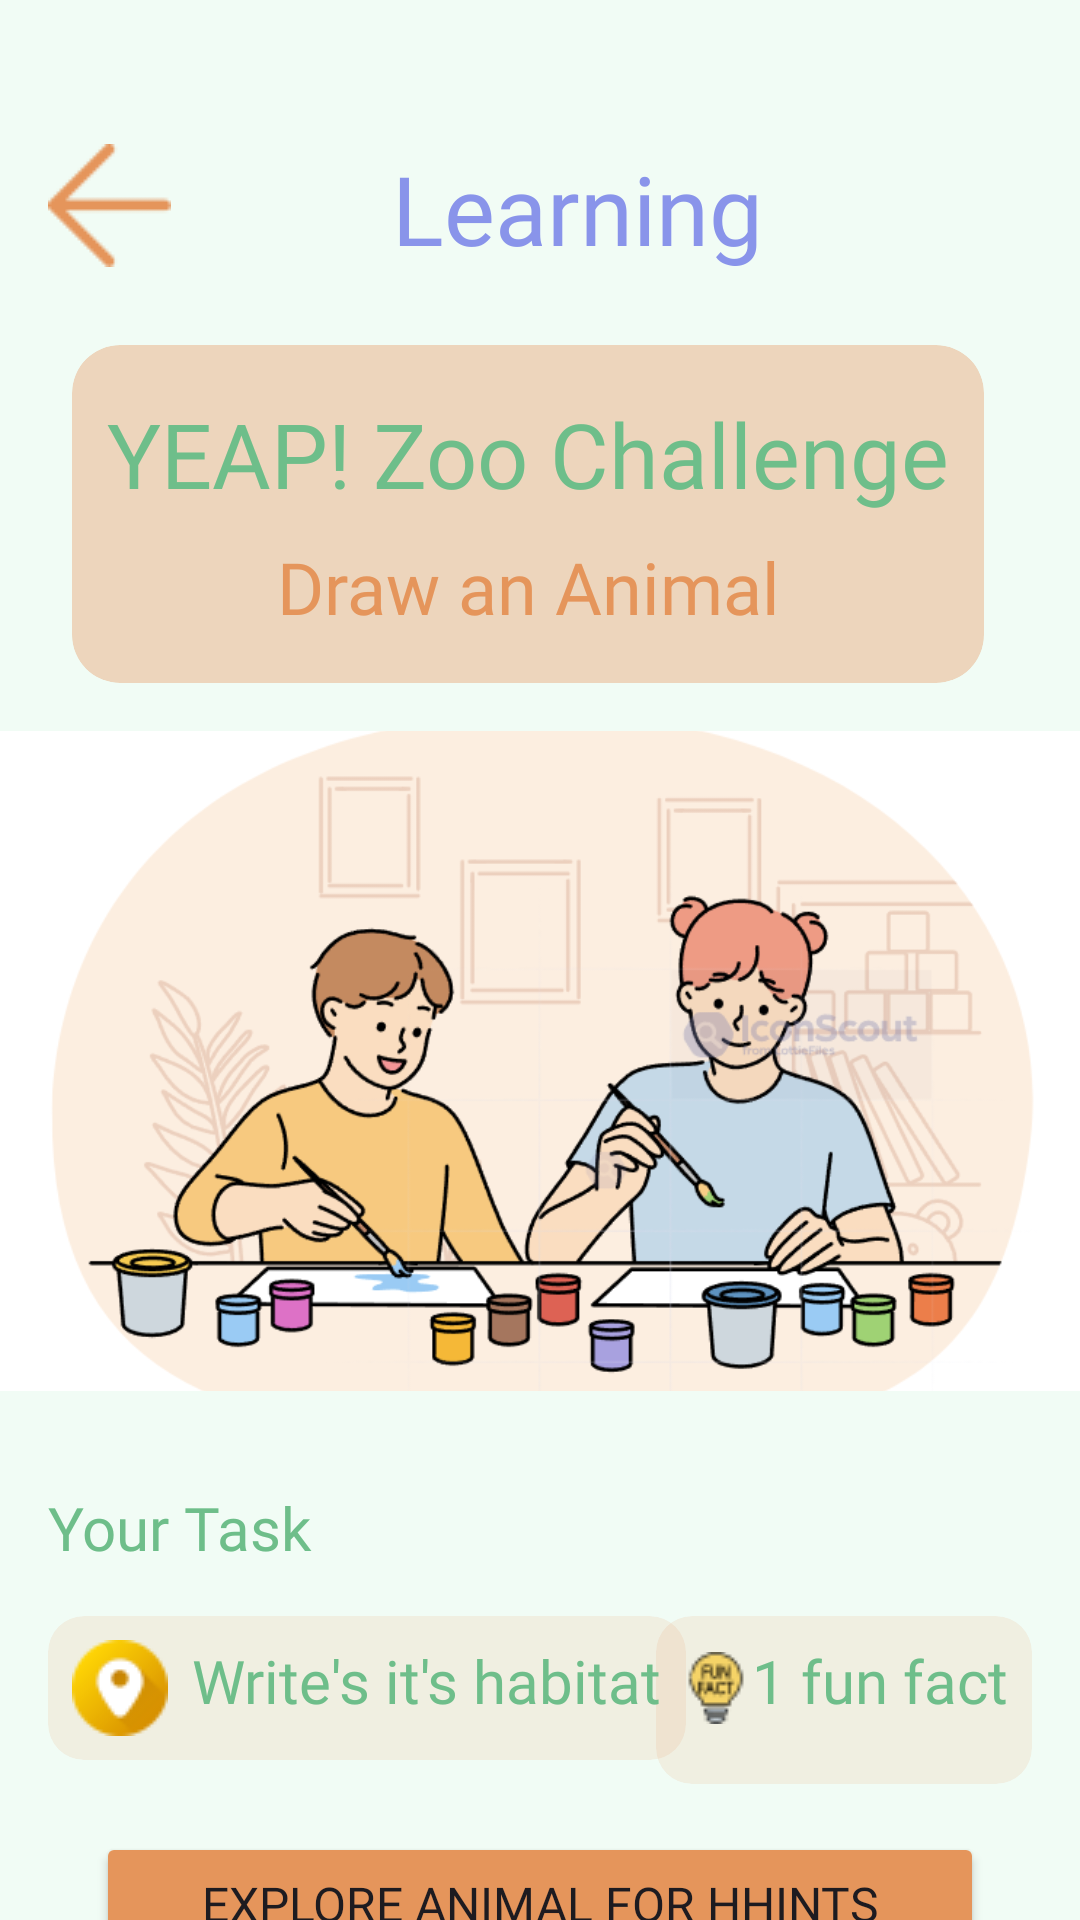

Where to tap for icons on this 1080*1920 app screen, as point (x, y):
location: point (120, 1688)
